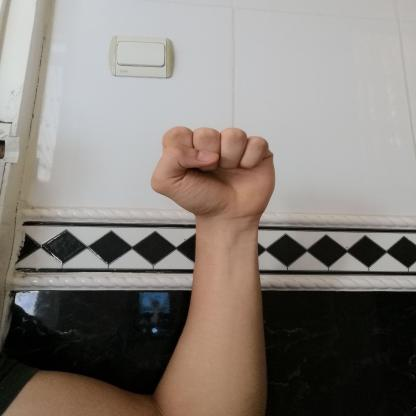SAD: (130, 114, 292, 228)
